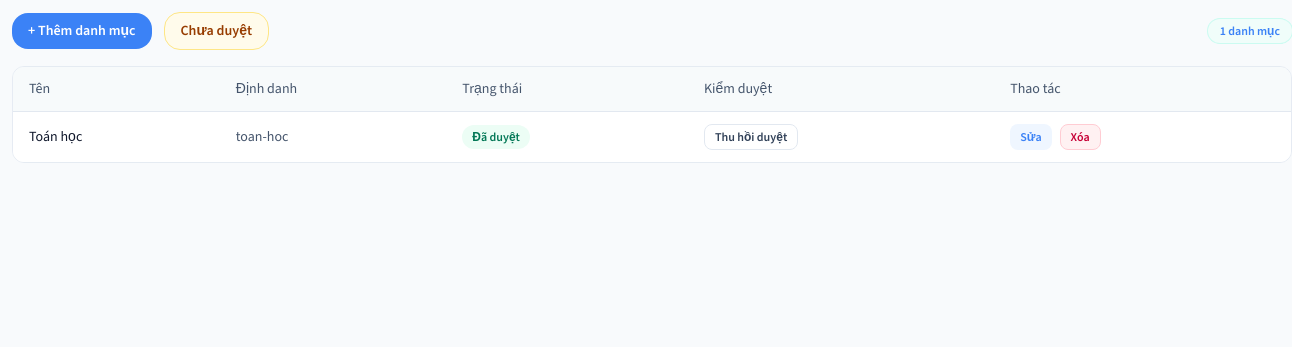
Scenario: AdminCategoriesQuickActions pending filter › shows an empty pending state when no category is waiting for review
The image size is (1292, 347).
Click the button "Chưa duyệt" at (216, 31), box x1=164 y1=12 x2=269 y2=50
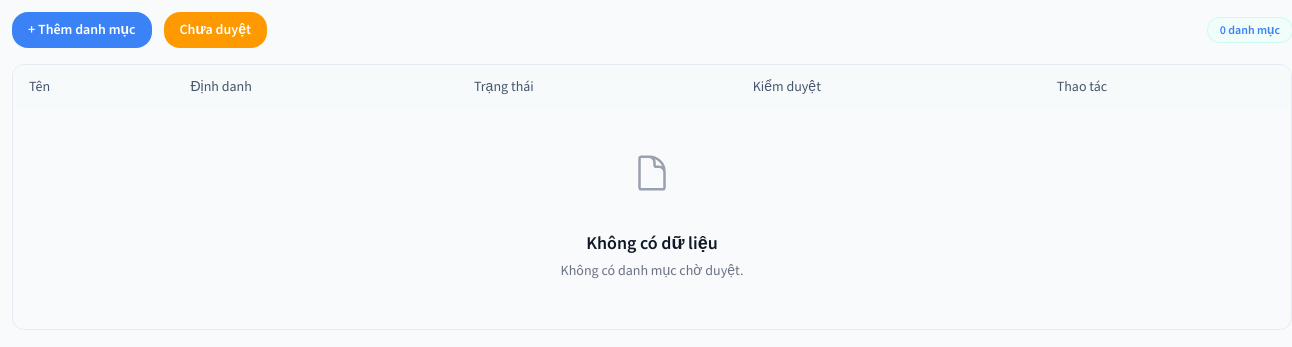
expect the text "Không có danh mục chờ duyệt." is shown: met, box x1=561 y1=261 x2=743 y2=281
expect the text "0 danh mục" is shown: met, box x1=1208 y1=18 x2=1291 y2=42
